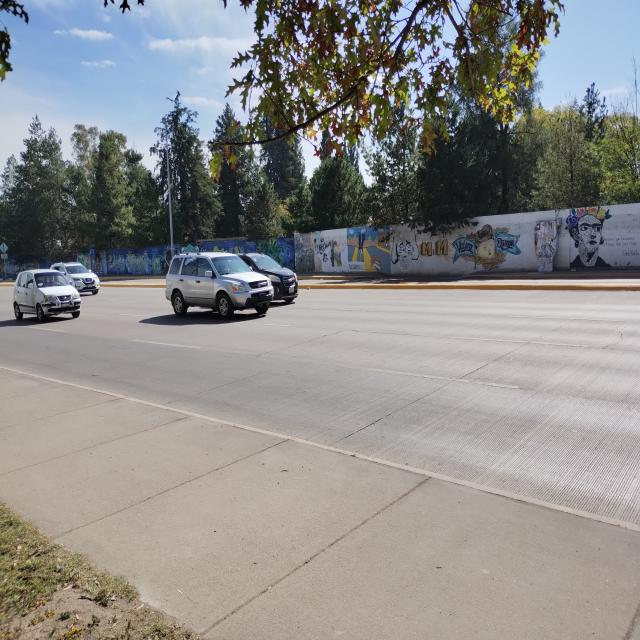Auto: (163, 250, 276, 320), (12, 267, 82, 321), (232, 252, 299, 304), (50, 263, 100, 297)
